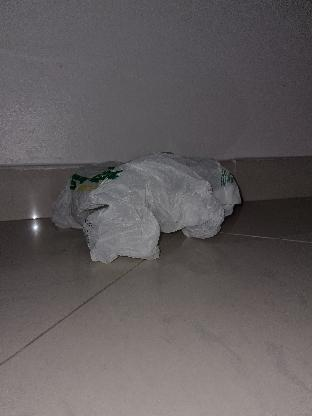Plastic Bag: (52, 152, 244, 262)
